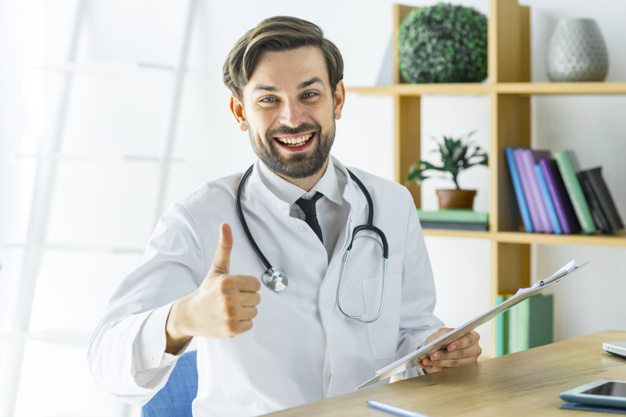thumbsup: (212, 223, 260, 336)
